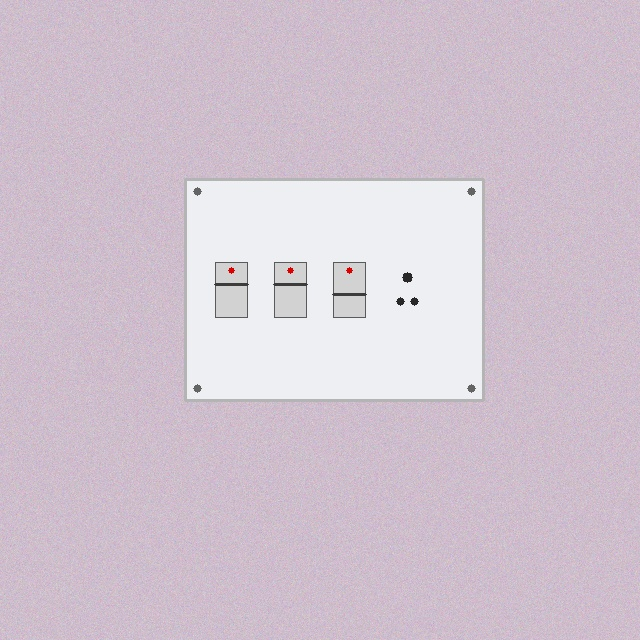switchboard: (185, 179, 483, 400)
